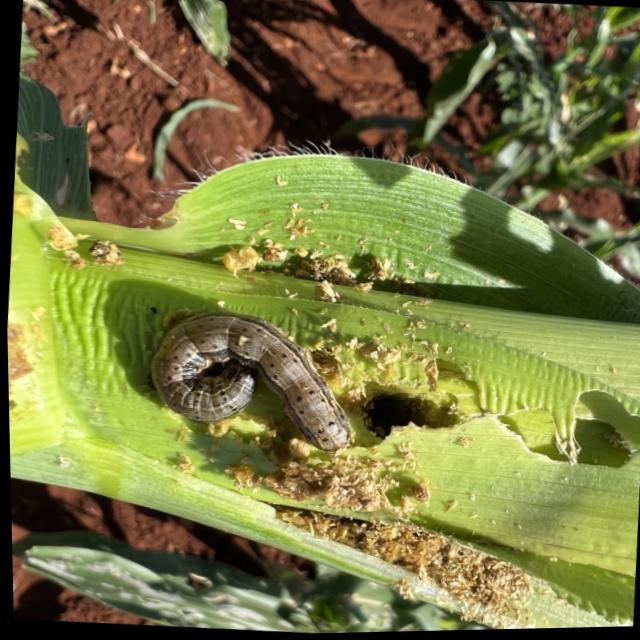Fall-Armyworm: (133, 298, 362, 464)
